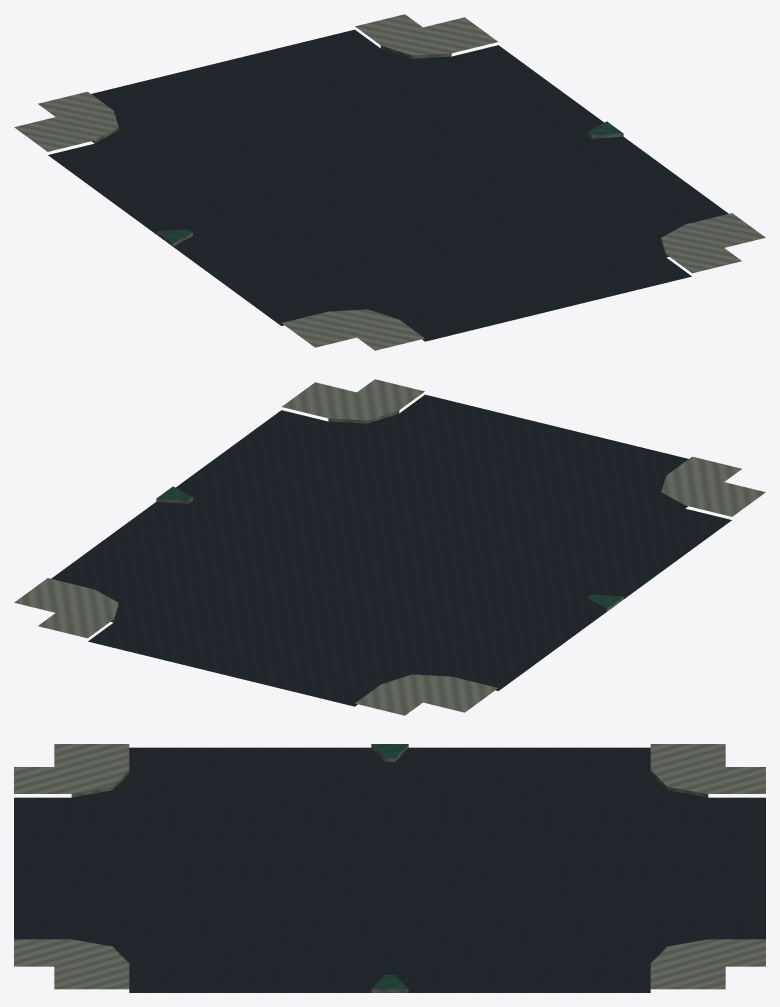
The model's file is junc_cross_6x4_ShadowProxy.glb.
3 renders of one model, top to bottom at view 1: azimuth 30°, elevation 25°; view 2: azimuth 150°, elevation 25°; view 3: azimuth 270°, elevation 25°, orthographic. The views are drawn at different scales.
Parts seen in each view (by area): view 1: junc_cross_6x4__surface.003, junc_cross_6x4__rounded_corner_curb.003, junc_cross_6x4__median_ends.003; view 2: junc_cross_6x4__surface.003, junc_cross_6x4__rounded_corner_curb.003, junc_cross_6x4__median_ends.003; view 3: junc_cross_6x4__surface.003, junc_cross_6x4__rounded_corner_curb.003, junc_cross_6x4__median_ends.003.
Boxes of the visible parts, x1,y1,x2,y2 form: junc_cross_6x4__surface.003: [48, 29, 728, 341]; junc_cross_6x4__rounded_corner_curb.003: [14, 14, 765, 350]; junc_cross_6x4__median_ends.003: [156, 121, 623, 246]; junc_cross_6x4__surface.003: [51, 394, 731, 706]; junc_cross_6x4__rounded_corner_curb.003: [14, 379, 765, 715]; junc_cross_6x4__median_ends.003: [156, 486, 623, 611]; junc_cross_6x4__surface.003: [14, 747, 765, 992]; junc_cross_6x4__rounded_corner_curb.003: [14, 744, 765, 989]; junc_cross_6x4__median_ends.003: [371, 744, 408, 992].
Size of the model in its own units: 21.6 by 0.145 by 28.
Materials: 4 (4 with a texture image).
